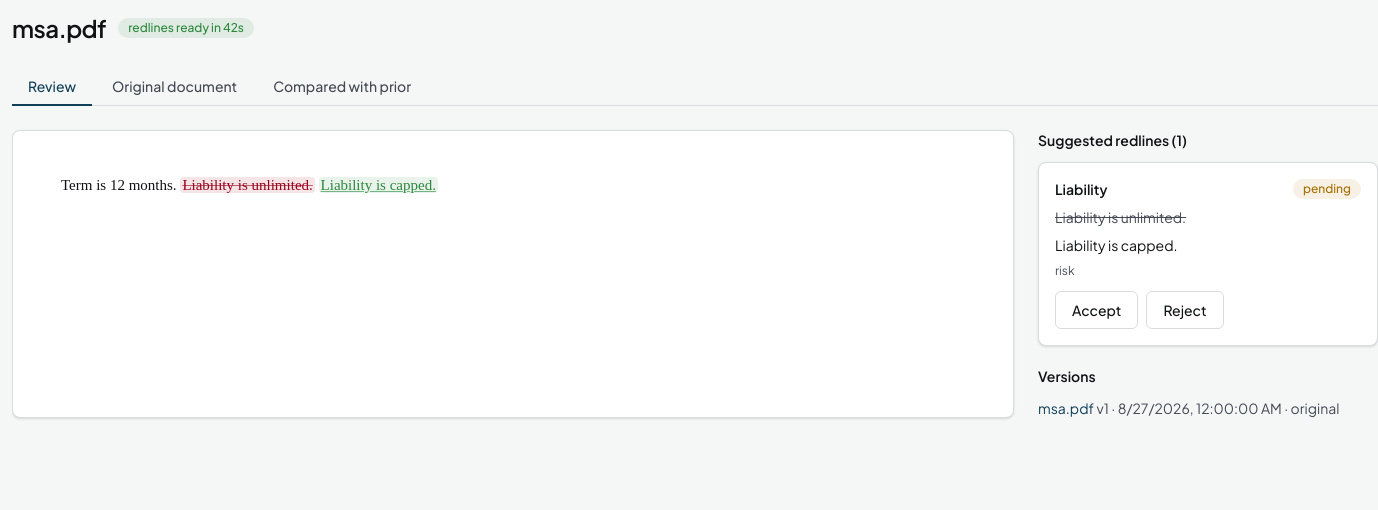
Scenario: confirm surfaces a notice when an accepted change came back stale
The image size is (1378, 510).
Click the button "Accept".
click(1097, 310)  # box [1055, 291, 1138, 329]
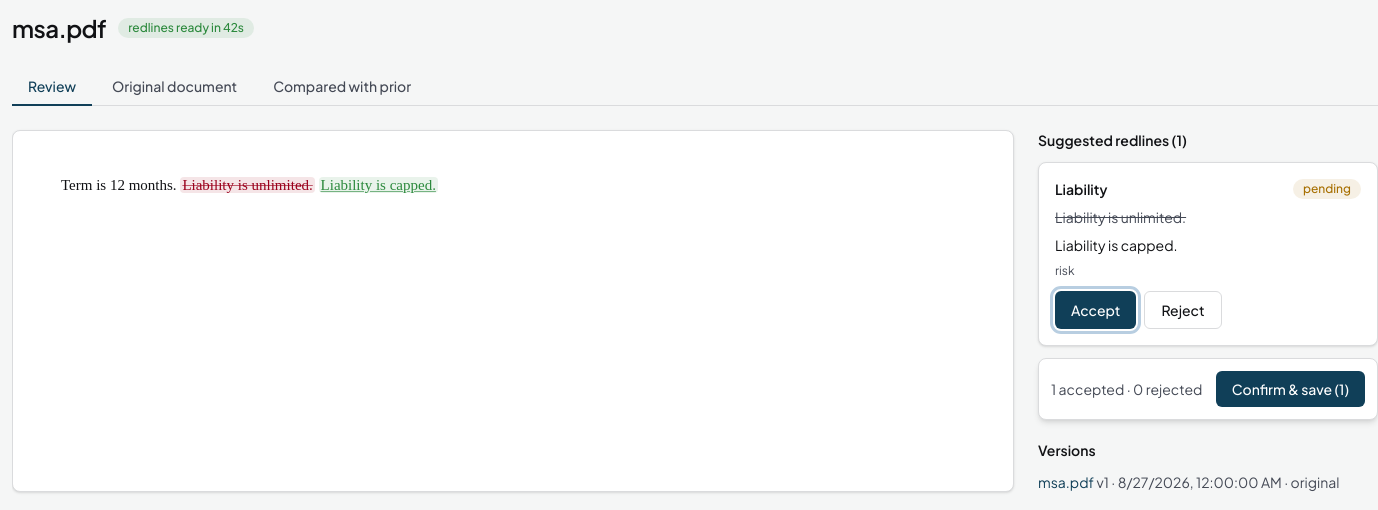
Click the button "Confirm & save (1)".
click(1290, 389)  # box [1216, 371, 1365, 407]
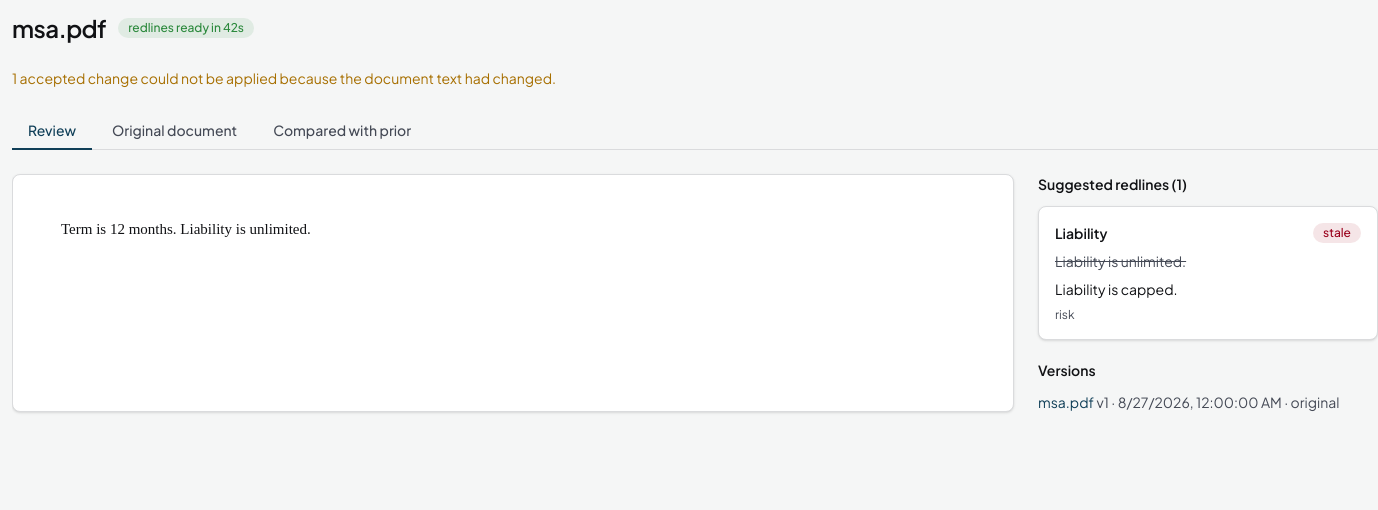
Check: the text "1 accepted change could not be applied" is shown, box [12, 69, 556, 87]
